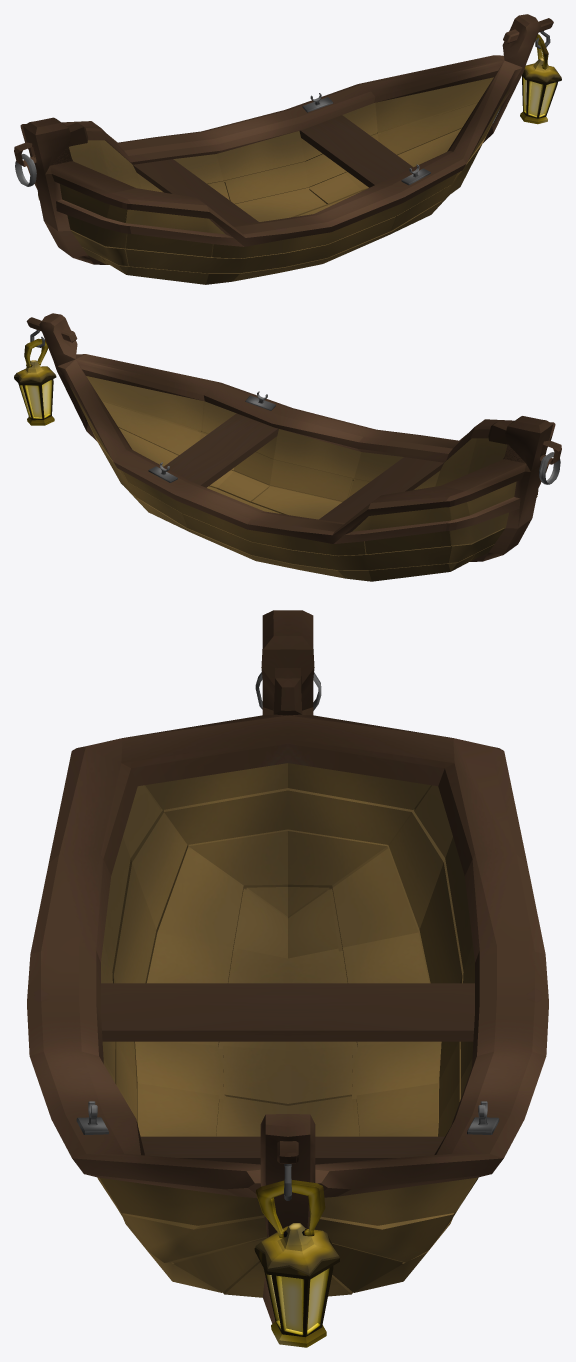
The model's file is boat.fbx.
3 views of the same model, one above another, from view 1: azimuth 30°, elevation 25°; view 2: azimuth 150°, elevation 25°; view 3: azimuth 270°, elevation 25° (orthographic). The views are drawn at different scales.
Visible parts, largest first — view 1: RowBoat; view 2: RowBoat; view 3: RowBoat.
Boxes of the visible parts, x1,y1,x2,y2 form: RowBoat: [14, 14, 561, 284]; RowBoat: [14, 313, 561, 581]; RowBoat: [27, 610, 548, 1347].
Bounding box in the file's own units: 37.63 × 12.36 × 15.74.
2 materials, 2 textured.
